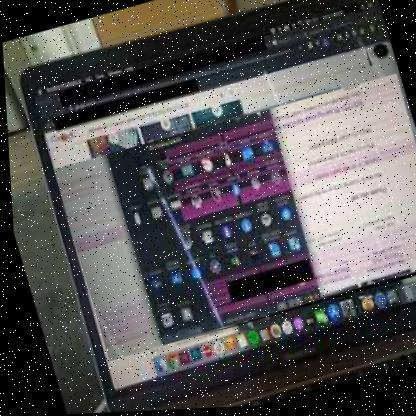lines: (48, 75, 415, 365)
spot: (364, 41, 394, 70)
